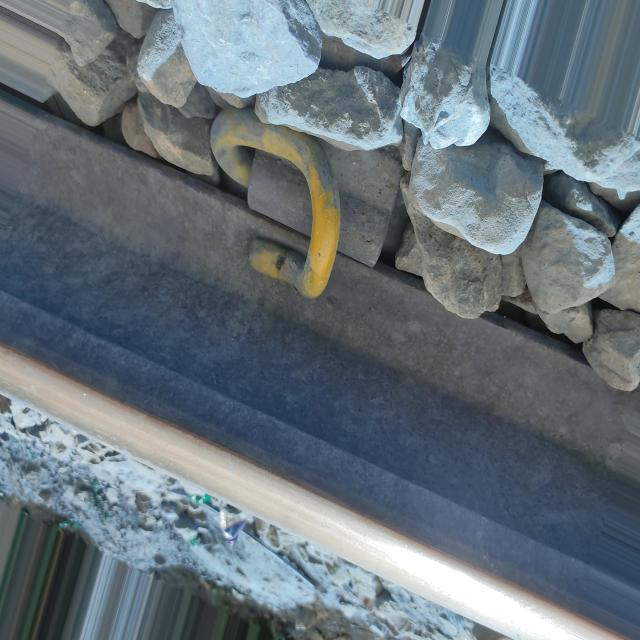Good Fasteners: (200, 94, 403, 316)
